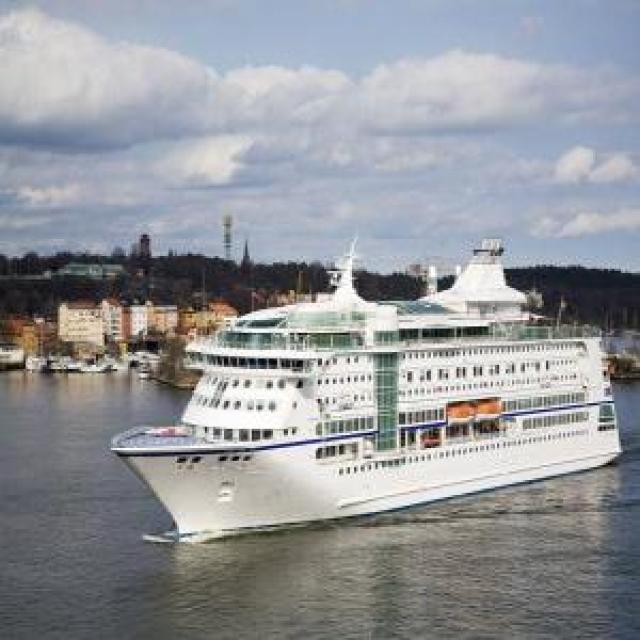passenger ship: (104, 247, 624, 533)
